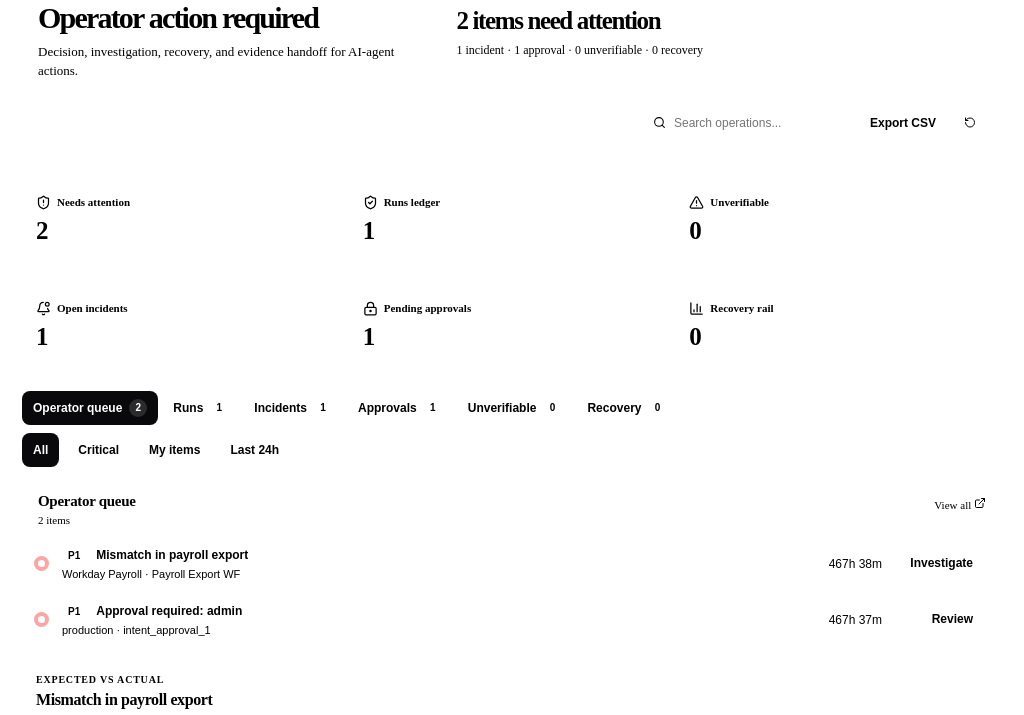
it: OperationsPage › disables operator mutations for read-only members
The width and height of the screenshot is (1024, 715).
Click the text "Approval required: admin": coordinates (169, 611) [96,604,242,618]
(page scrolled)
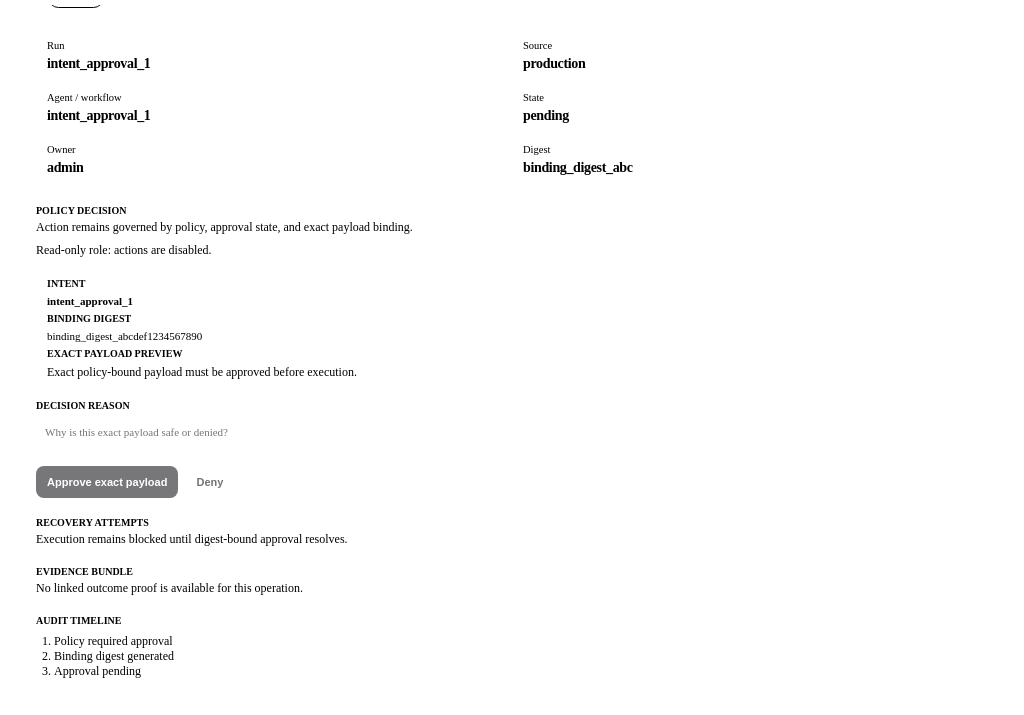
Now the button "Approve exact payload" is disabled, box [36,466,178,498]
